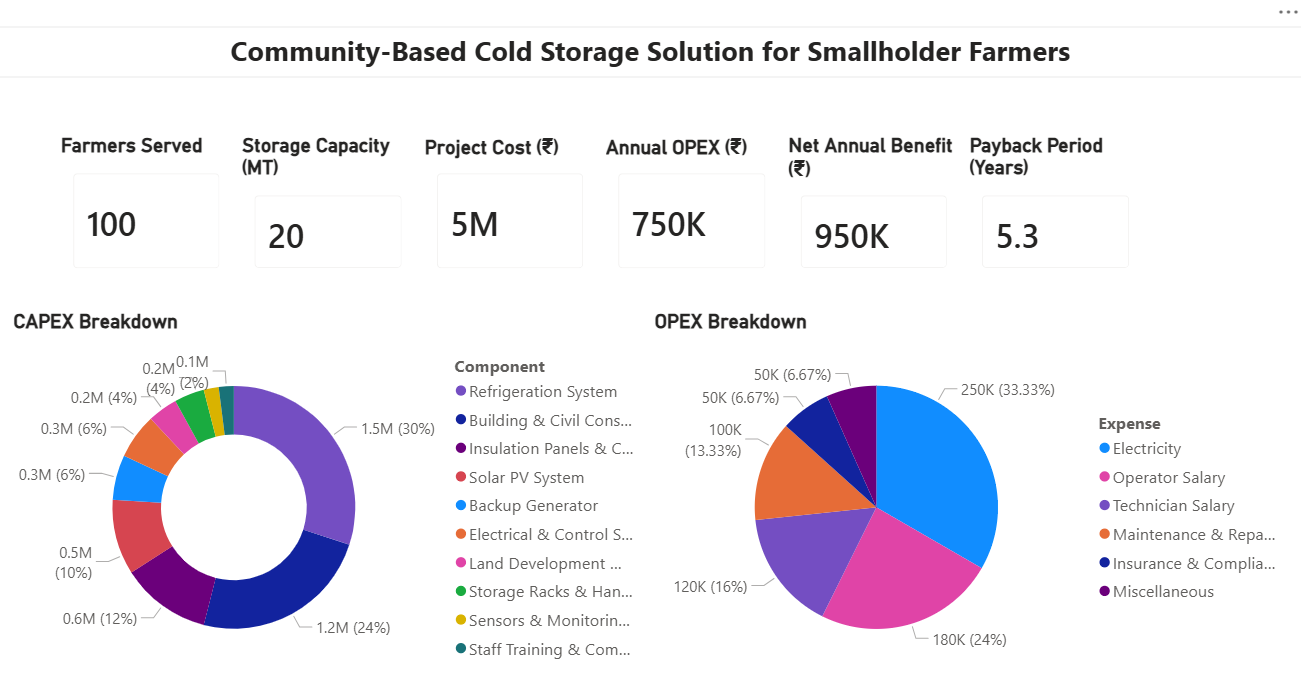

This screenshot's page, from the dashboard's own definition file:
{"tool":"powerbi","page":{"name":"Page 1","canvas":[1280,720],"ordinal":0},"visuals":[{"type":"textbox","box":[0,66,1280.3,50.1],"z":0},{"type":"donutChart","title":"CAPEX Breakdown","fields":{"Category":["CAPEX.Component"],"Y":["Sum(CAPEX.Cost (₹))"]},"box":[12.2,343.6,627.3,364.4],"z":1000},{"type":"pieChart","title":"OPEX Breakdown","fields":{"Category":["OPEX.Expense"],"Y":["Sum(OPEX.Annual Cost (₹))"]},"box":[639.5,343.6,629.8,364.4],"z":1001},{"type":"cardVisual","title":"Farmers Served","fields":{"Data":["Sum(Dashboard Metrics.Value)"]},"box":[58.7,171.2,177.3,149.2],"z":1002},{"type":"cardVisual","title":"Storage Capacity (MT)","fields":{"Data":["Sum(Dashboard Metrics.Value)"]},"box":[236,171.2,178.5,149.2],"z":1003},{"type":"cardVisual","title":"Project Cost (₹)","fields":{"Data":["Sum(Dashboard Metrics.Value)"]},"box":[414.5,171.2,177.3,149.2],"z":1004},{"type":"cardVisual","title":"Annual OPEX (₹)","fields":{"Data":["Sum(Dashboard Metrics.Value)"]},"box":[591.9,171.2,178.5,149.2],"z":1005},{"type":"cardVisual","title":"Net Annual Benefit (₹)","fields":{"Data":["Sum(Dashboard Metrics.Value)"]},"box":[770.4,171.2,177.3,149.2],"z":1006},{"type":"cardVisual","title":"Payback Period (Years)","fields":{"Data":["Sum(Dashboard Metrics.Value)"]},"box":[947.7,171.2,178.5,149.2],"z":1007}]}

Visuals, with their boxes on the page's 1280x720 design canvas (x1, y1, x2, y2). These are canvas units, not pixel positions in the 1301x692 screenshot, which may show the page scaled, cropped or inside an application window:
textbox: (left=0, top=66, right=1280, bottom=116)
"CAPEX Breakdown" donutChart: (left=12, top=344, right=640, bottom=708)
"OPEX Breakdown" pieChart: (left=640, top=344, right=1269, bottom=708)
"Farmers Served" cardVisual: (left=59, top=171, right=236, bottom=320)
"Storage Capacity (MT)" cardVisual: (left=236, top=171, right=414, bottom=320)
"Project Cost (₹)" cardVisual: (left=414, top=171, right=592, bottom=320)
"Annual OPEX (₹)" cardVisual: (left=592, top=171, right=770, bottom=320)
"Net Annual Benefit (₹)" cardVisual: (left=770, top=171, right=948, bottom=320)
"Payback Period (Years)" cardVisual: (left=948, top=171, right=1126, bottom=320)
